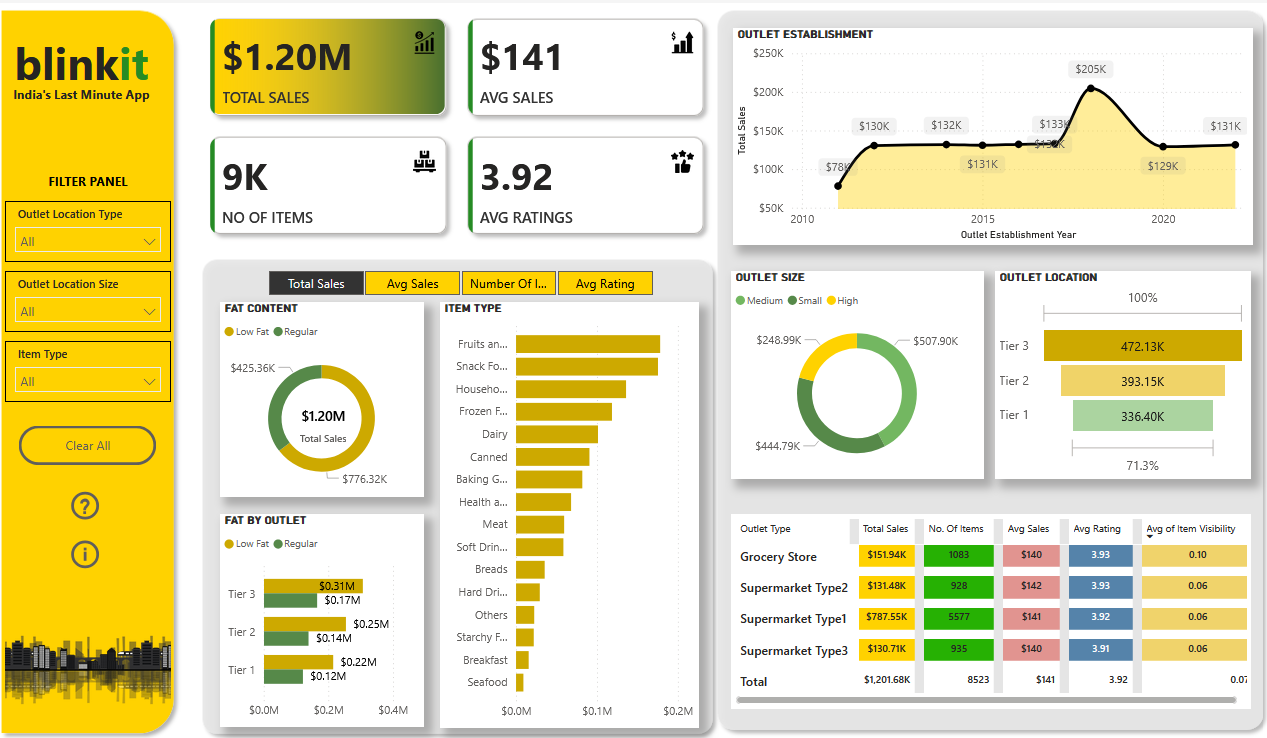

This screenshot's page, from the dashboard's own definition file:
{"tool":"powerbi","page":{"name":"Page 1","canvas":[1400,800],"ordinal":0},"visuals":[{"type":"shape","box":[15,0,204,800],"z":0},{"type":"textbox","box":[27.2,27.2,165.7,74.2],"z":1000},{"type":"textbox","box":[26.7,83.9,165.3,33.1],"z":2000},{"type":"cardVisual","fields":{"Data":["BlinkIT Grocery Data.Total Sales","BlinkIT Grocery Data.Avg Sales","BlinkIT Grocery Data.Number Of Items","BlinkIT Grocery Data.Avg Rating"]},"box":[233.2,0,569.7,269.4],"z":3000},{"type":"shape","box":[233.2,269.4,569.7,530.8],"z":4000},{"type":"donutChart","title":"FAT CONTENT","fields":{"Y":["BlinkIT Grocery Data.Total Sales"],"Category":["BlinkIT Grocery Data.Item Fat Content"]},"box":[260.1,323.1,221.2,211.8],"z":5000},{"type":"slicer","fields":{"Values":["Metrics.Metrics"]},"box":[286.9,282.8,465.1,40.2],"z":6000},{"type":"cardVisual","fields":{"Data":["BlinkIT Grocery Data.Total Sales"]},"box":[315,412.9,112.6,88.5],"z":7000},{"type":"clusteredBarChart","title":"FAT BY OUTLET","fields":{"Y":["BlinkIT Grocery Data.Total Sales"],"Category":["BlinkIT Grocery Data.Outlet Location Type"],"Series":["BlinkIT Grocery Data.Item Fat Content"]},"box":[260.1,553.6,221.2,230.6],"z":8000},{"type":"barChart","title":"ITEM TYPE","fields":{"Y":["BlinkIT Grocery Data.Total Sales"],"Category":["BlinkIT Grocery Data.Item Type"]},"box":[497.3,323.1,280.2,461.1],"z":9000},{"type":"shape","box":[790.9,0,608.6,796.3],"z":10000},{"type":"lineChart","title":"OUTLET ESTABLISHMENT","fields":{"Y":["BlinkIT Grocery Data.Total Sales"],"Category":["BlinkIT Grocery Data.Outlet Establishment Year"]},"box":[815,26.8,563,234.6],"z":11000},{"type":"donutChart","title":"OUTLET SIZE","fields":{"Y":["BlinkIT Grocery Data.Total Sales"],"Category":["BlinkIT Grocery Data.Outlet Size"]},"box":[813.7,289.5,273.5,225.2],"z":12000},{"type":"funnel","title":"OUTLET LOCATION","fields":{"Category":["BlinkIT Grocery Data.Outlet Location Type"],"Y":["Sum(BlinkIT Grocery Data.Sales)"]},"box":[1099.2,289.5,277.5,225.2],"z":13000},{"type":"pivotTable","fields":{"Rows":["BlinkIT Grocery Data.Outlet Type"],"Values":["BlinkIT Grocery Data.Total Sales","BlinkIT Grocery Data.Number Of Items","BlinkIT Grocery Data.Avg Sales","BlinkIT Grocery Data.Avg Rating","Avg(BlinkIT Grocery Data.Item Visibility)"]},"box":[813.7,553.6,563,210.5],"z":14000},{"type":"slicer","fields":{"Values":["BlinkIT Grocery Data.Outlet Location Type"]},"box":[26.8,213.1,179.6,67],"z":15000},{"type":"slicer","fields":{"Values":["BlinkIT Grocery Data.Outlet Size"]},"box":[26.8,289.5,179.6,67],"z":16000},{"type":"slicer","fields":{"Values":["BlinkIT Grocery Data.Item Type"]},"box":[26.8,366,179.6,67],"z":17000},{"type":"textbox","box":[26.8,178.3,179.6,34.9],"z":18000},{"type":"actionButton","box":[93.8,576.4,45.6,40.2],"z":19000},{"type":"actionButton","box":[93.8,524.1,45.6,40.2],"z":20000},{"type":"actionButton","box":[41.6,457.1,148.8,42.9],"z":20001},{"type":"image","box":[26.8,646.1,179.6,154.2],"z":20002}]}

Visuals, with their boxes in screenshot pixels (x1, y1, x2, y2), scaled from the page's 1400x800 canvas onto the 1267x738 screenshot:
shape: l=14, t=0, r=198, b=737
textbox: l=25, t=25, r=175, b=94
textbox: l=24, t=77, r=174, b=108
cardVisual - BlinkIT Grocery Data.Total Sales x BlinkIT Grocery Data.Avg Sales: l=211, t=0, r=727, b=249
shape: l=211, t=249, r=727, b=737
"FAT CONTENT" donutChart: l=235, t=298, r=436, b=493
slicer - Metrics.Metrics: l=260, t=261, r=681, b=298
cardVisual - BlinkIT Grocery Data.Total Sales: l=285, t=381, r=387, b=463
"FAT BY OUTLET" clusteredBarChart: l=235, t=511, r=436, b=723
"ITEM TYPE" barChart: l=450, t=298, r=704, b=723
shape: l=716, t=0, r=1266, b=735
"OUTLET ESTABLISHMENT" lineChart: l=738, t=25, r=1247, b=241
"OUTLET SIZE" donutChart: l=736, t=267, r=984, b=475
"OUTLET LOCATION" funnel: l=995, t=267, r=1246, b=475
pivotTable - BlinkIT Grocery Data.Outlet Type x BlinkIT Grocery Data.Total Sales: l=736, t=511, r=1246, b=705
slicer - BlinkIT Grocery Data.Outlet Location Type: l=24, t=197, r=187, b=258
slicer - BlinkIT Grocery Data.Outlet Size: l=24, t=267, r=187, b=329
slicer - BlinkIT Grocery Data.Item Type: l=24, t=338, r=187, b=399
textbox: l=24, t=164, r=187, b=197
actionButton: l=85, t=532, r=126, b=569
actionButton: l=85, t=483, r=126, b=521
actionButton: l=38, t=422, r=172, b=461
image: l=24, t=596, r=187, b=737
